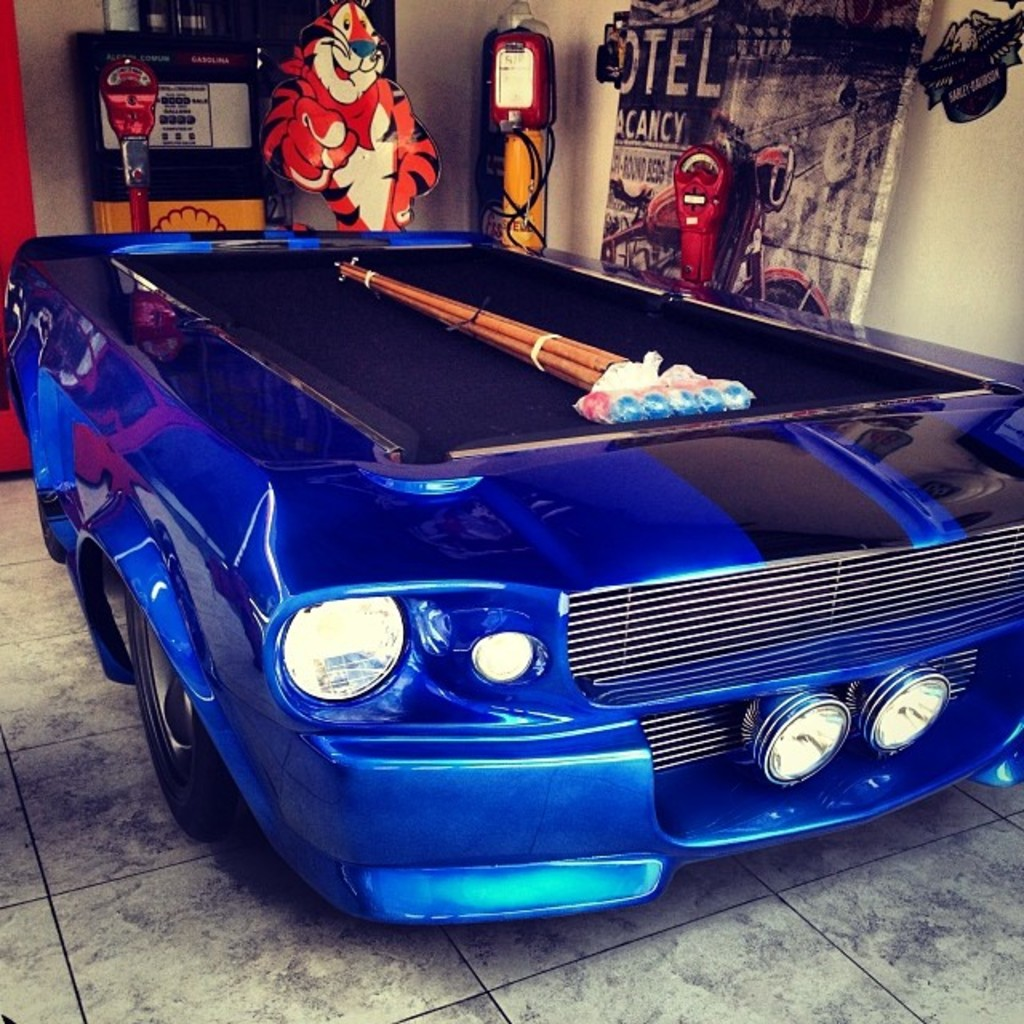Car: (0, 236, 1022, 928)
